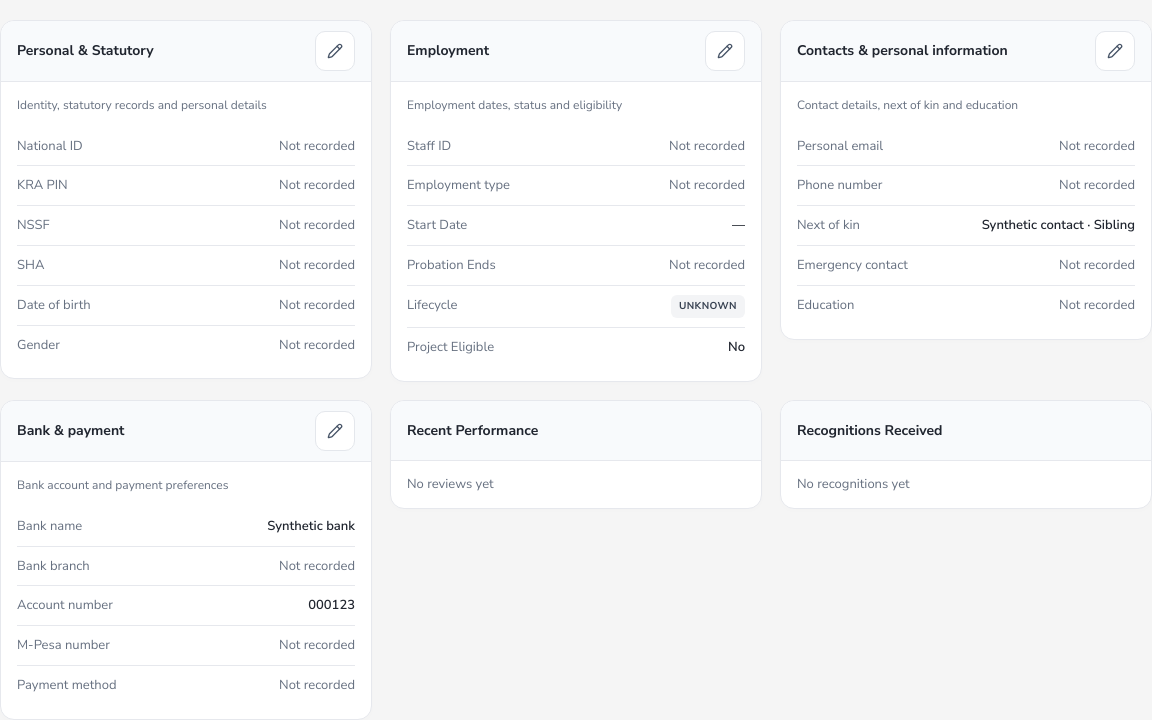
hr_admin sees a pencil in each editable card header and a separate bank card
(page scrolled)
Check: the element showing "Personal & Statutory" is shown, box x1=1 y1=20 x2=371 y2=82
Check: the element showing "Employment" is shown, box x1=391 y1=20 x2=761 y2=82
Click the button named "Edit Bank & payment". click: {"x": 335, "y": 431}
box: x1=315 y1=411 x2=355 y2=451
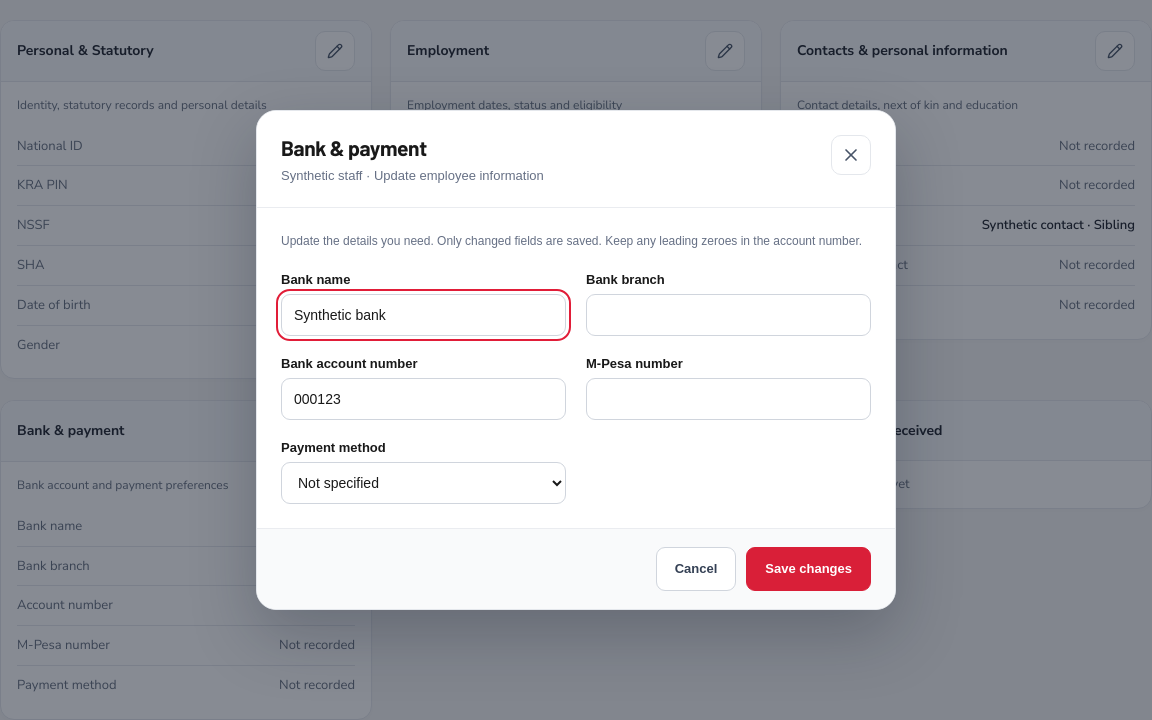
Check: the dialog is shown, box x1=256 y1=110 x2=896 y2=610
Check: the field named "Bank account number" holds "000123", box x1=281 y1=378 x2=566 y2=420
